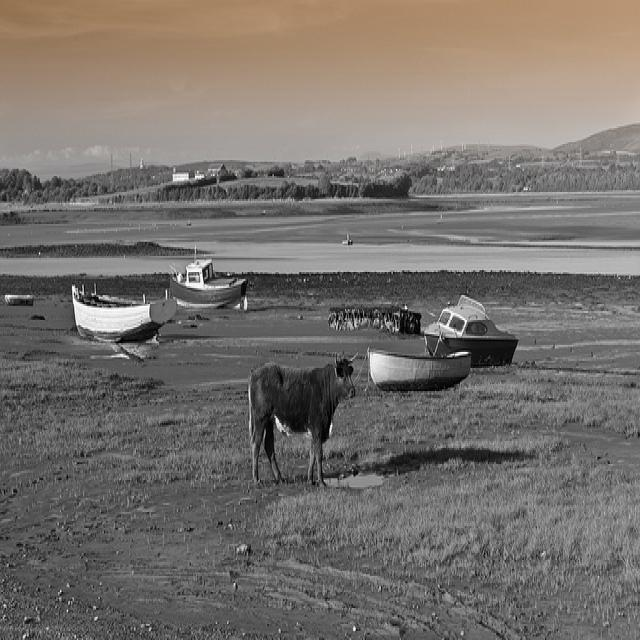cow: (248, 349, 357, 491)
